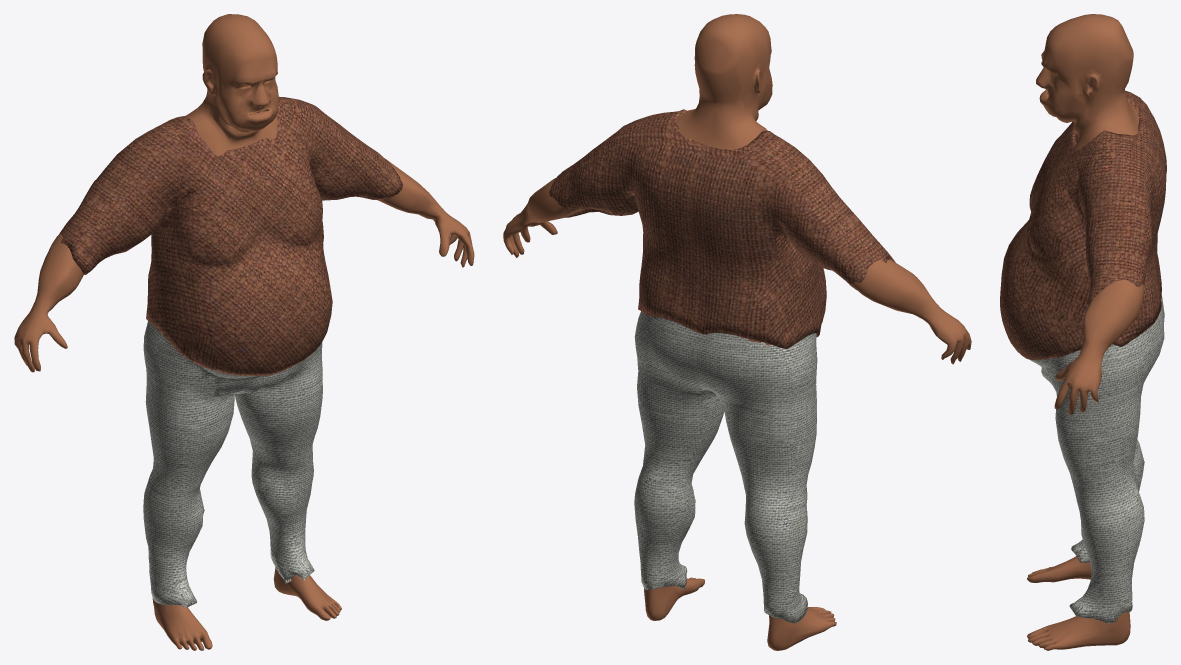
File: corpo2.fbx
The picture shows the model from 3 angles, left to right: view 1: azimuth 30°, elevation 25°; view 2: azimuth 150°, elevation 25°; view 3: azimuth 270°, elevation 25°; orthographic projection.
Visible parts, largest first — view 1: male_genericMesh.001; view 2: male_genericMesh.001; view 3: male_genericMesh.001.
Boxes of the visible parts, x1,y1,x2,y2 form: male_genericMesh.001: [14, 14, 474, 650]; male_genericMesh.001: [503, 14, 971, 650]; male_genericMesh.001: [1000, 14, 1166, 650].
Size of the model in its own units: 1412 by 1790 by 454.
Materials: 3 (3 with a texture image).
